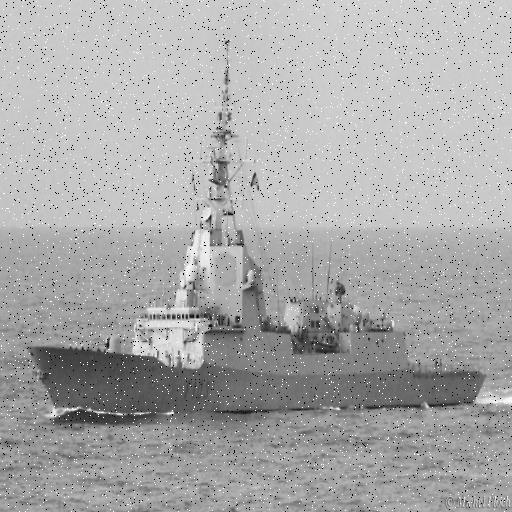Fragata: (26, 39, 490, 422)
